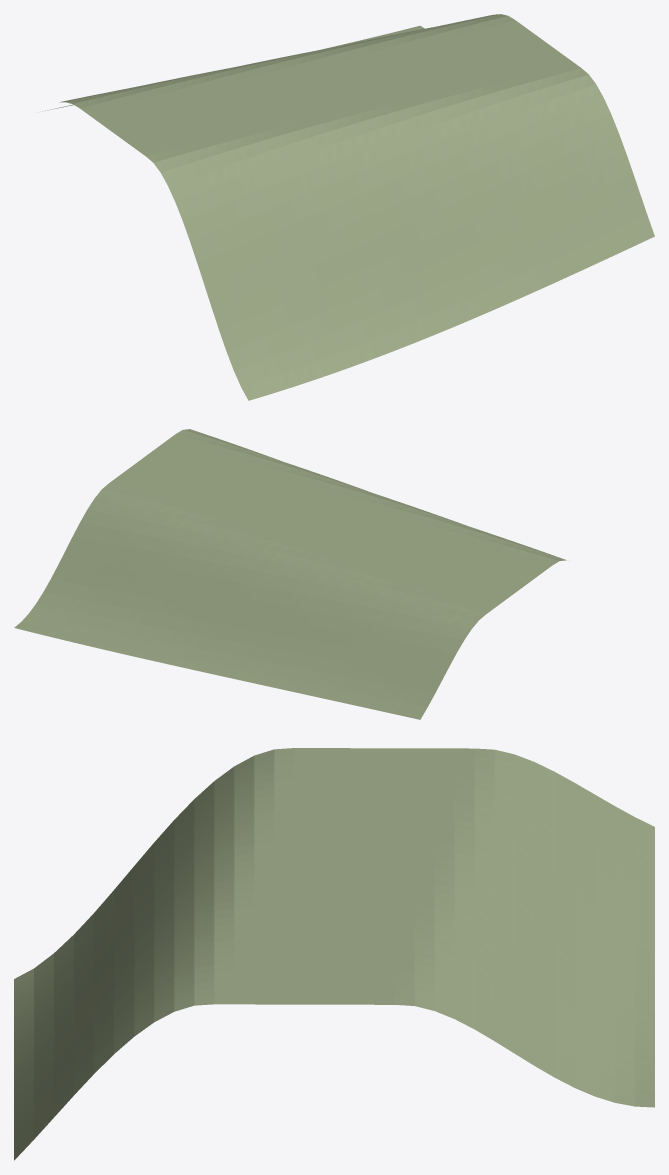
File: alpine-7-11.glb
The picture shows the model from 3 angles, top to bottom: view 1: azimuth 30°, elevation 25°; view 2: azimuth 150°, elevation 25°; view 3: azimuth 270°, elevation 25°; orthographic projection. The views are drawn at different scales.
Parts seen in each view (by area): view 1: alpine-7-11; view 2: alpine-7-11; view 3: alpine-7-11.
Boxes of the visible parts, left/top/right/bottom form: alpine-7-11: left=42, top=14, right=654, bottom=400; alpine-7-11: left=14, top=429, right=566, bottom=719; alpine-7-11: left=14, top=748, right=654, bottom=1160.
Bounding box in the file's own units: 256 × 108 × 256.
